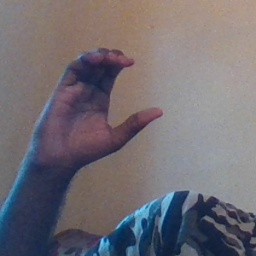C: (91, 43, 175, 150)
